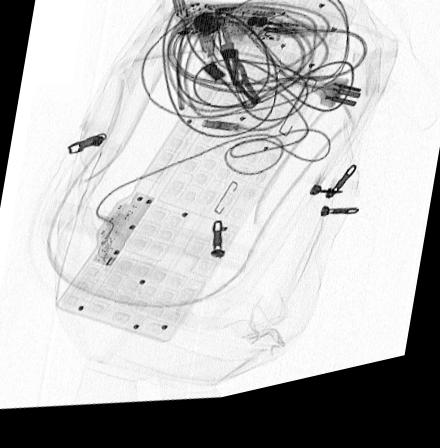Knife: (210, 19, 260, 121)
